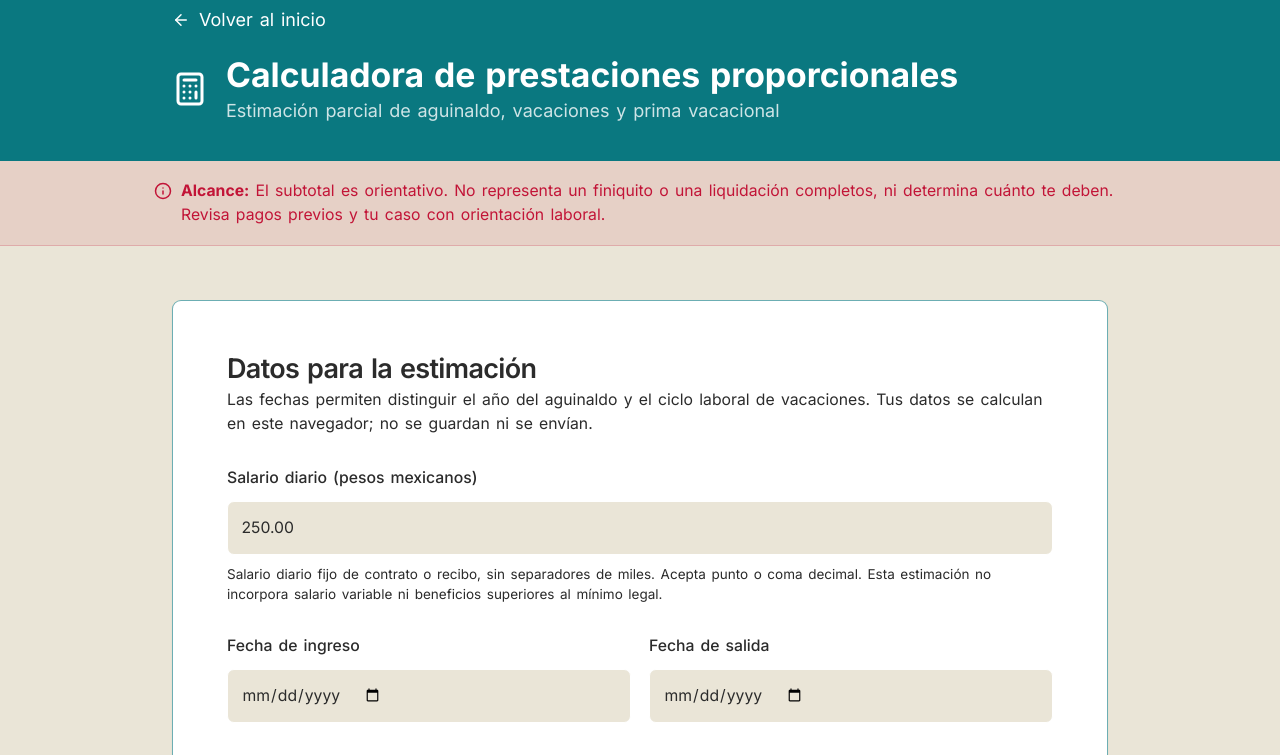
Calculadora de prestaciones proporcionales › retira inmediatamente el resultado cuando cambia Fecha de ingreso
In the field labelled "Salario diario (pesos mexicanos)": (640, 528) 227,500 -> 1053,554, type "365"
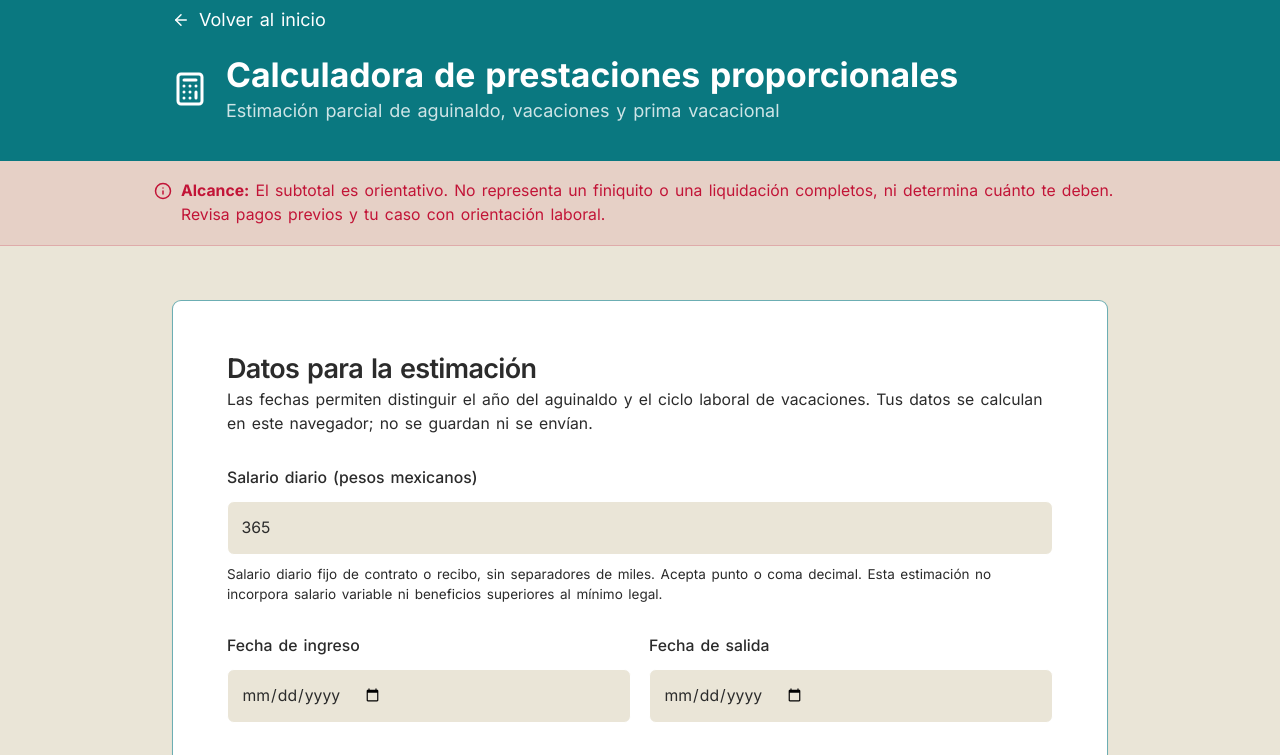
In the date field labelled "Fecha de ingreso": (429, 696) 227,669 -> 631,723, type "2025-12-30"
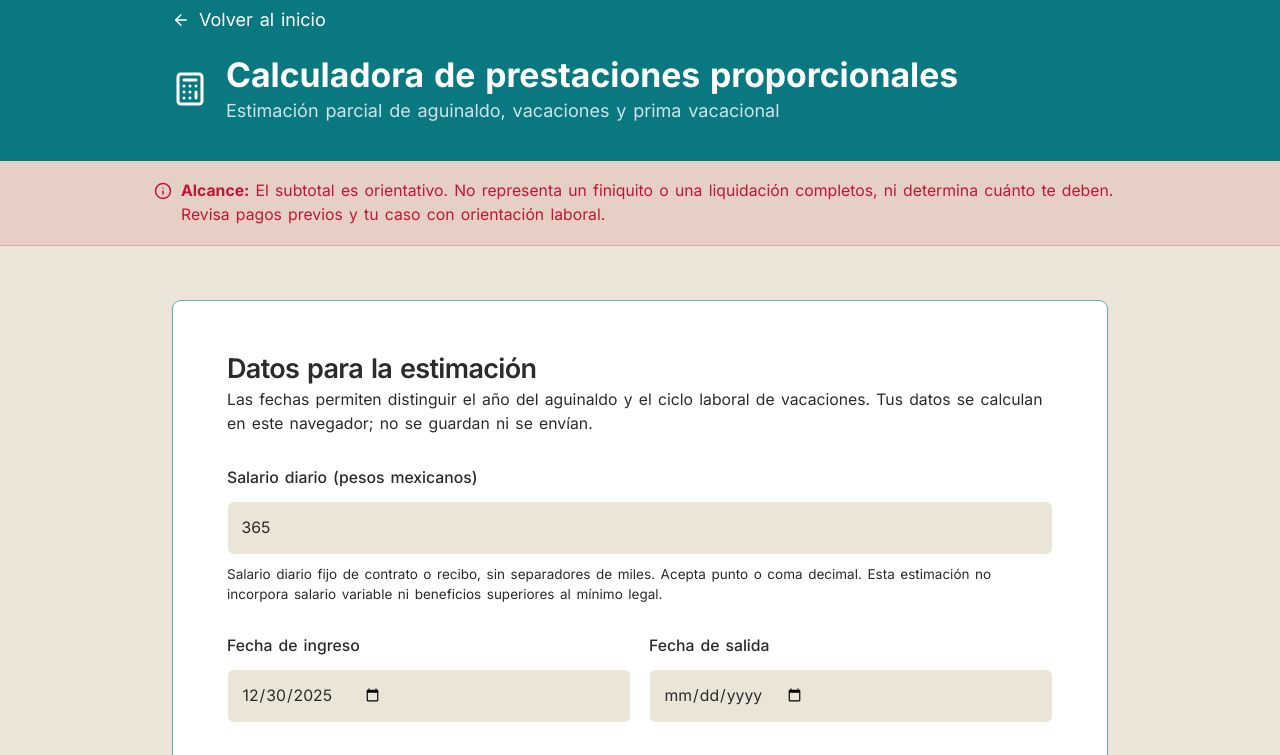
In the date field labelled "Fecha de salida": (851, 696) 649,669 -> 1053,723, type "2025-12-31"
(page scrolled)
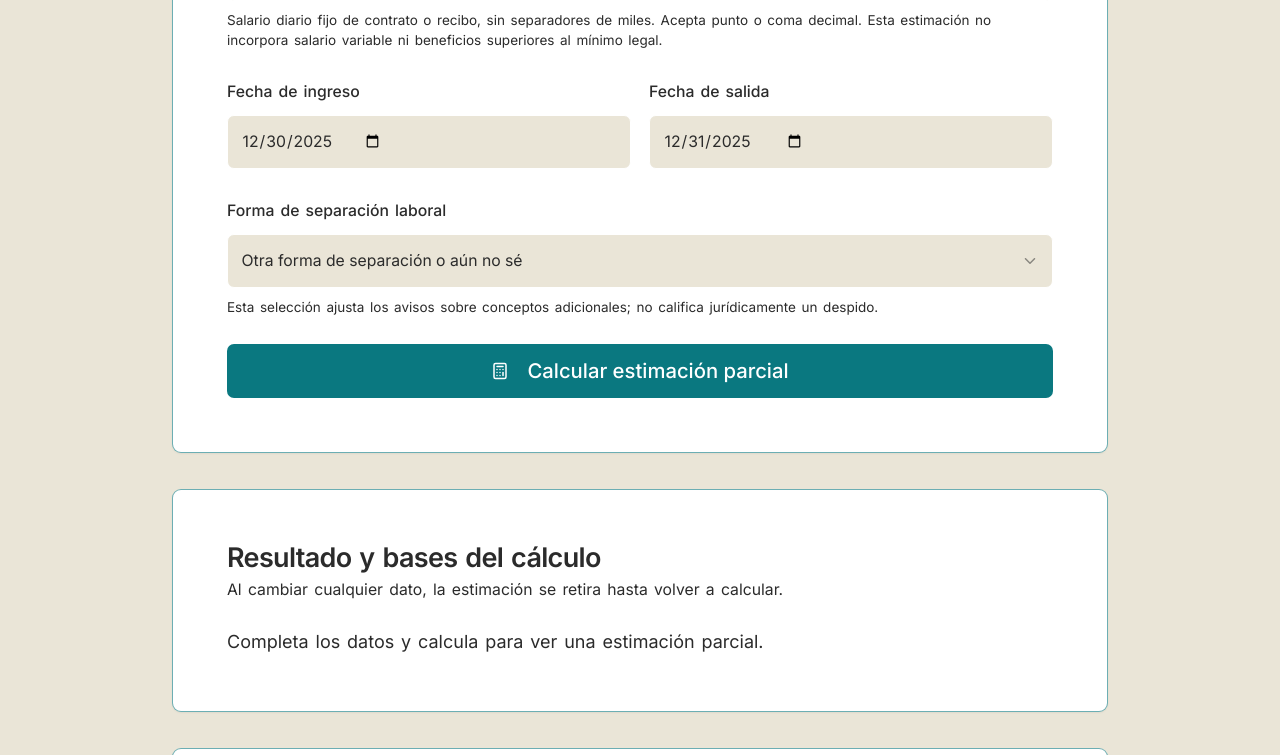
Click the button "Calcular estimación parcial": (640, 371) 227,344 -> 1053,398
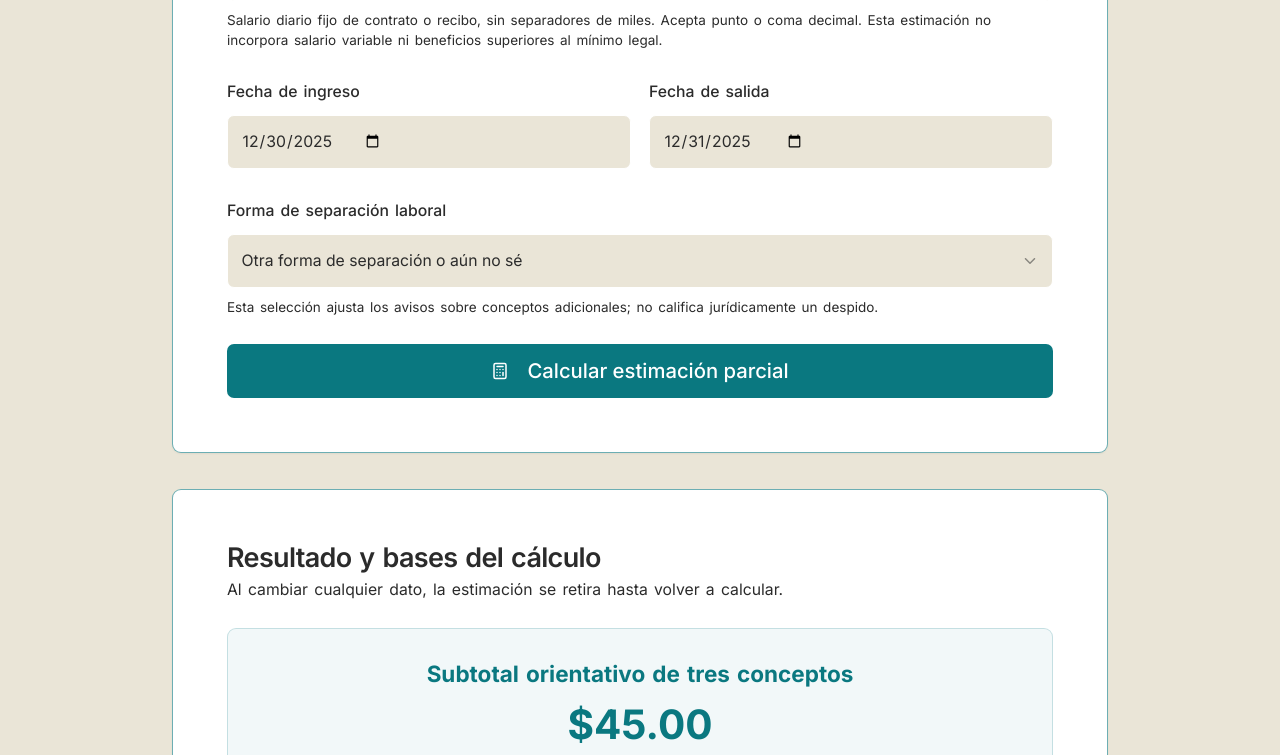
Check: the heading "Subtotal orientativo de tres conceptos" is shown, box 427,660 -> 853,687
In the date field labelled "Fecha de ingreso": (429, 142) 227,115 -> 631,169, type "2025-12-29"
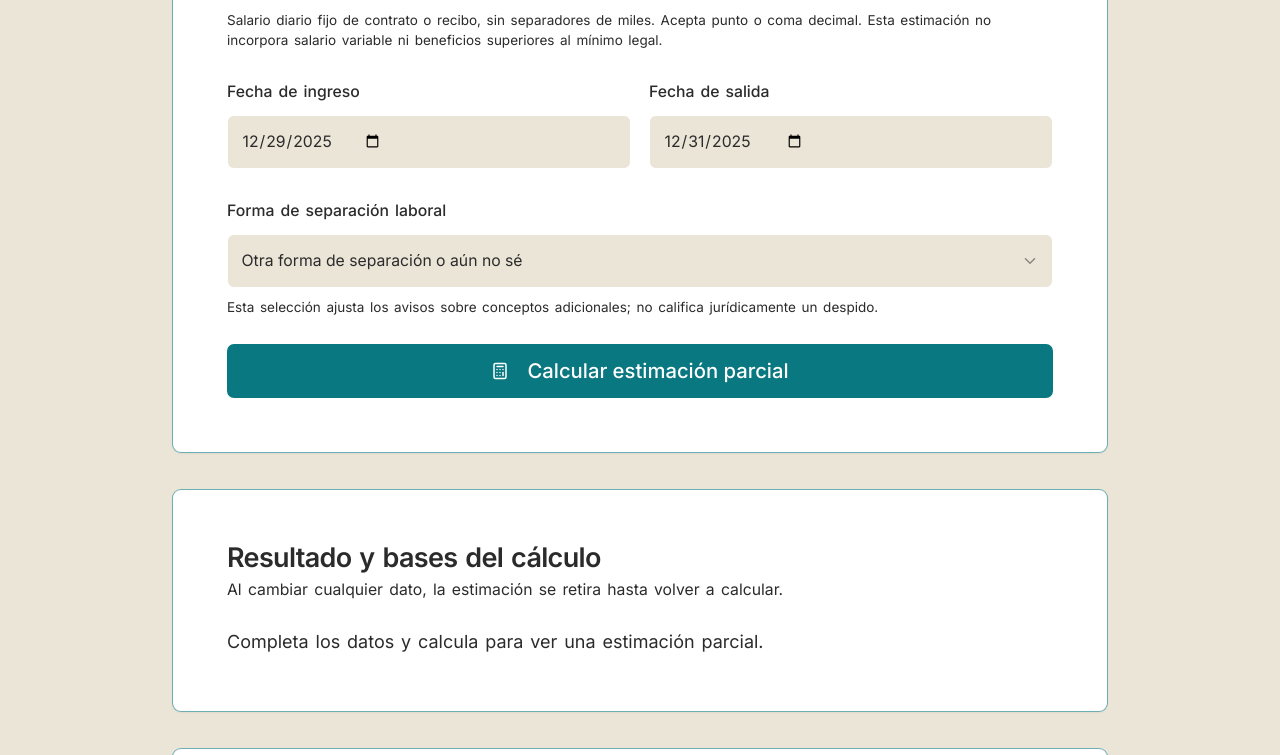
Check: the heading "Subtotal orientativo de tres conceptos" is gone
